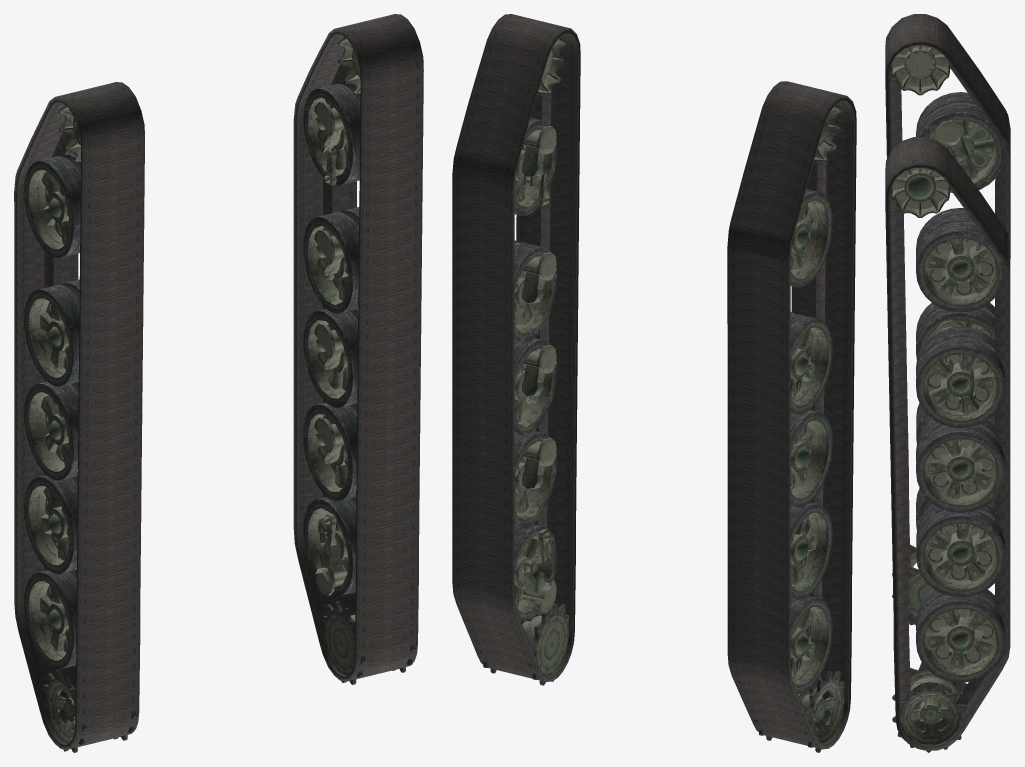
Rendered from Chassis.glb.
3 views of the same model, side by side, from view 1: azimuth 30°, elevation 25°; view 2: azimuth 150°, elevation 25°; view 3: azimuth 270°, elevation 25° (orthographic). The views are drawn at different scales.
Parts seen in each view (by area): view 1: set_0_group_0, set_1_group_0, set_3_group_0, set_2_group_0; view 2: set_0_group_0, set_1_group_0, set_3_group_0, set_2_group_0; view 3: set_3_group_0, set_1_group_0, set_2_group_0, set_0_group_0.
Part boxes in pixels (<box>): set_0_group_0: <box>14,82,144,749</box>; set_1_group_0: <box>293,14,423,681</box>; set_3_group_0: <box>303,37,415,684</box>; set_2_group_0: <box>24,105,136,752</box>; set_0_group_0: <box>727,81,856,749</box>; set_1_group_0: <box>452,14,580,681</box>; set_3_group_0: <box>479,37,569,685</box>; set_2_group_0: <box>754,105,844,752</box>; set_3_group_0: <box>890,168,1005,752</box>; set_1_group_0: <box>885,137,1010,750</box>; set_2_group_0: <box>890,45,1005,625</box>; set_0_group_0: <box>885,14,1010,625</box>.
Bounding box in the file's own units: 3.2 × 5.9 × 1.14.
Materials: 4 (4 with a texture image).
